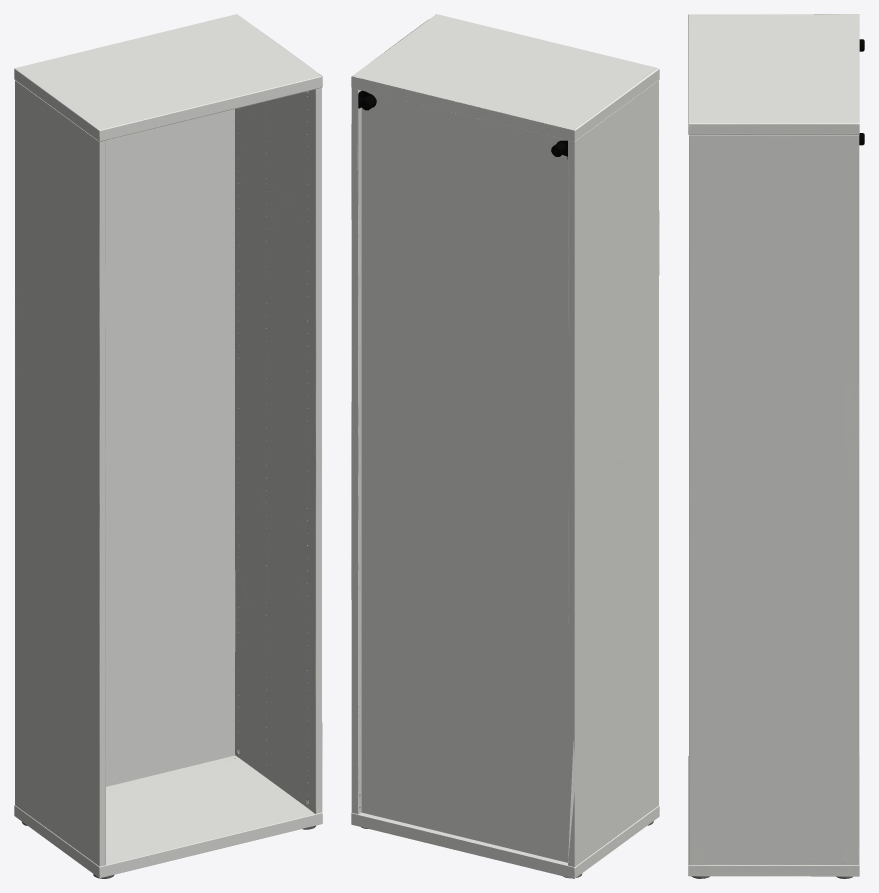
3 views of the same model, side by side, from view 1: azimuth 30°, elevation 25°; view 2: azimuth 150°, elevation 25°; view 3: azimuth 270°, elevation 25° (orthographic).
Visible parts, largest first — view 1: model; view 2: model; view 3: model.
Boxes of the visible parts, bbox=[...] form: model: bbox=[14, 14, 322, 878]; model: bbox=[351, 14, 659, 878]; model: bbox=[688, 14, 864, 878].
Size of the model in its own units: 0.6 by 1.93 by 0.4068.
Materials: 1 (1 with a texture image).
